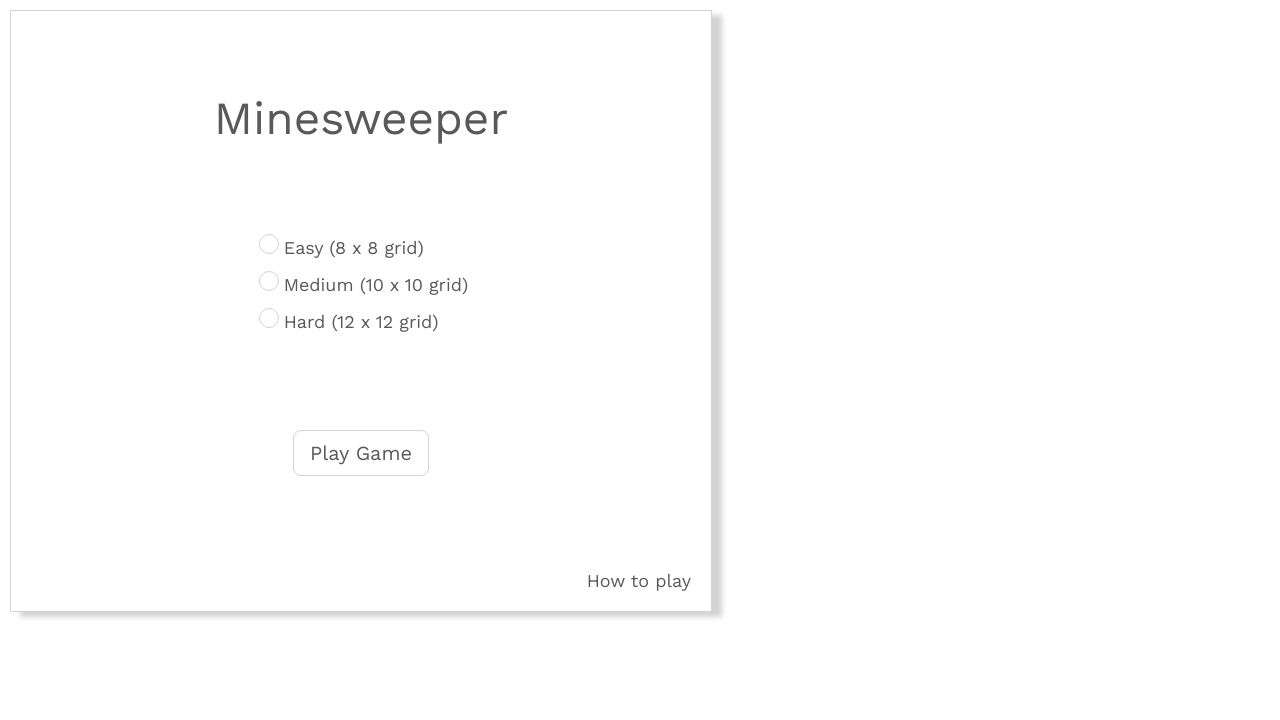
Scenario: Modal behaves as expected with user interaction › Modal opens and closes with user interaction at GameStart
The image size is (1280, 720).
Click the button with test id "rules-modal" at [639, 581], box [577,560,701,601]
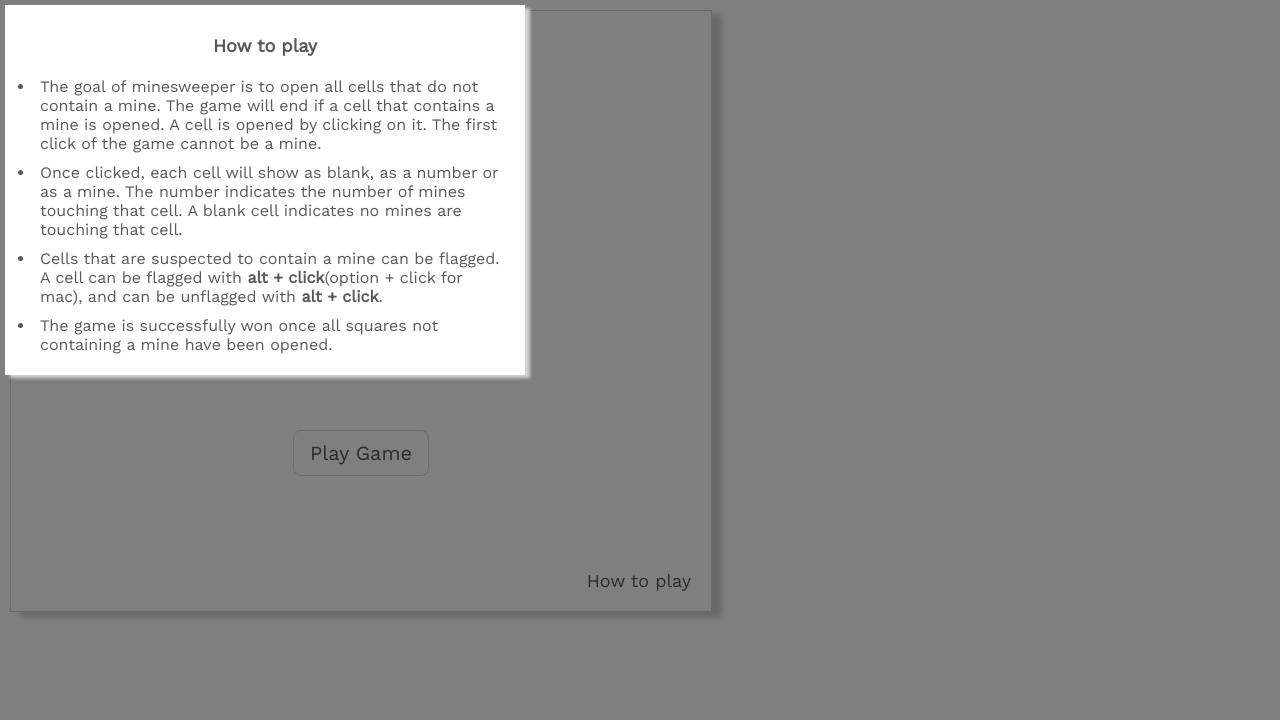
Result: the list item with test id "modal-content" is shown
Result: the list item with test id "modal-content" shows "The goal of minesweeper is to open all cells that do not contain a mine. The game will end if a cell that contains a mine is opened. A cell is opened by clickin"
Click the list item with test id "modal-content" at [270, 115], box [35,72,505,158]
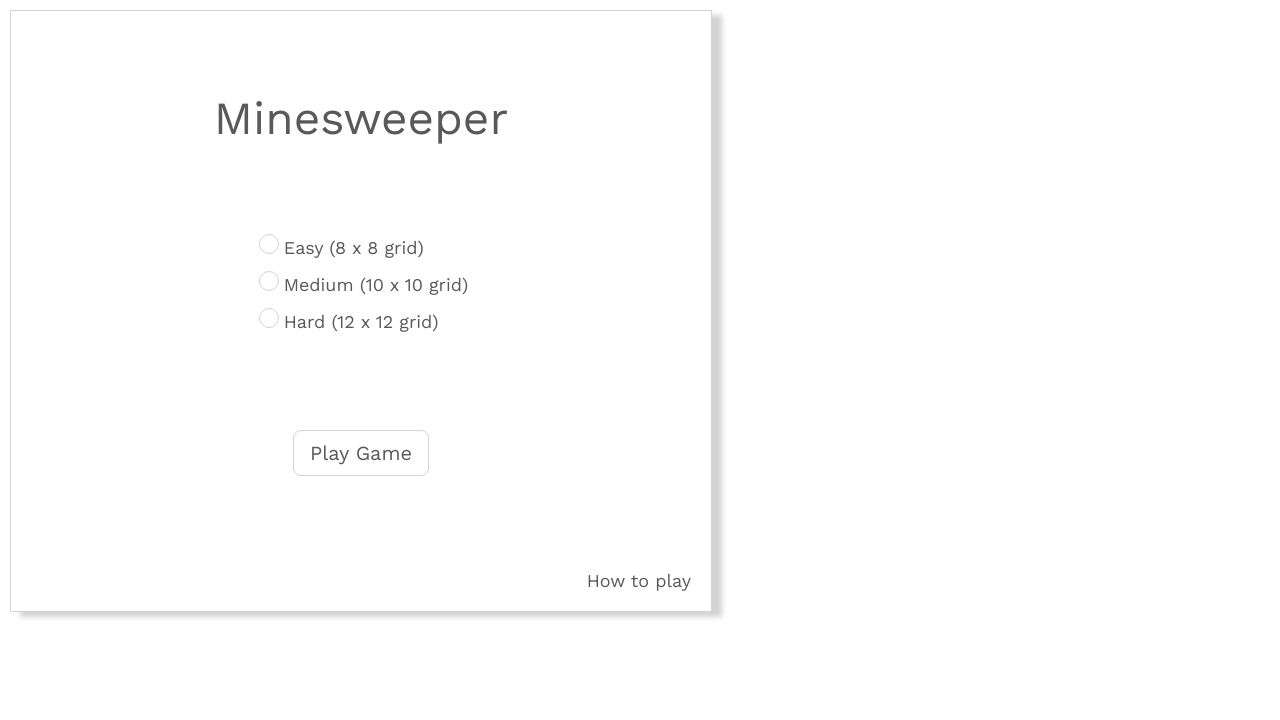
Result: the list item with test id "modal-content" is gone
